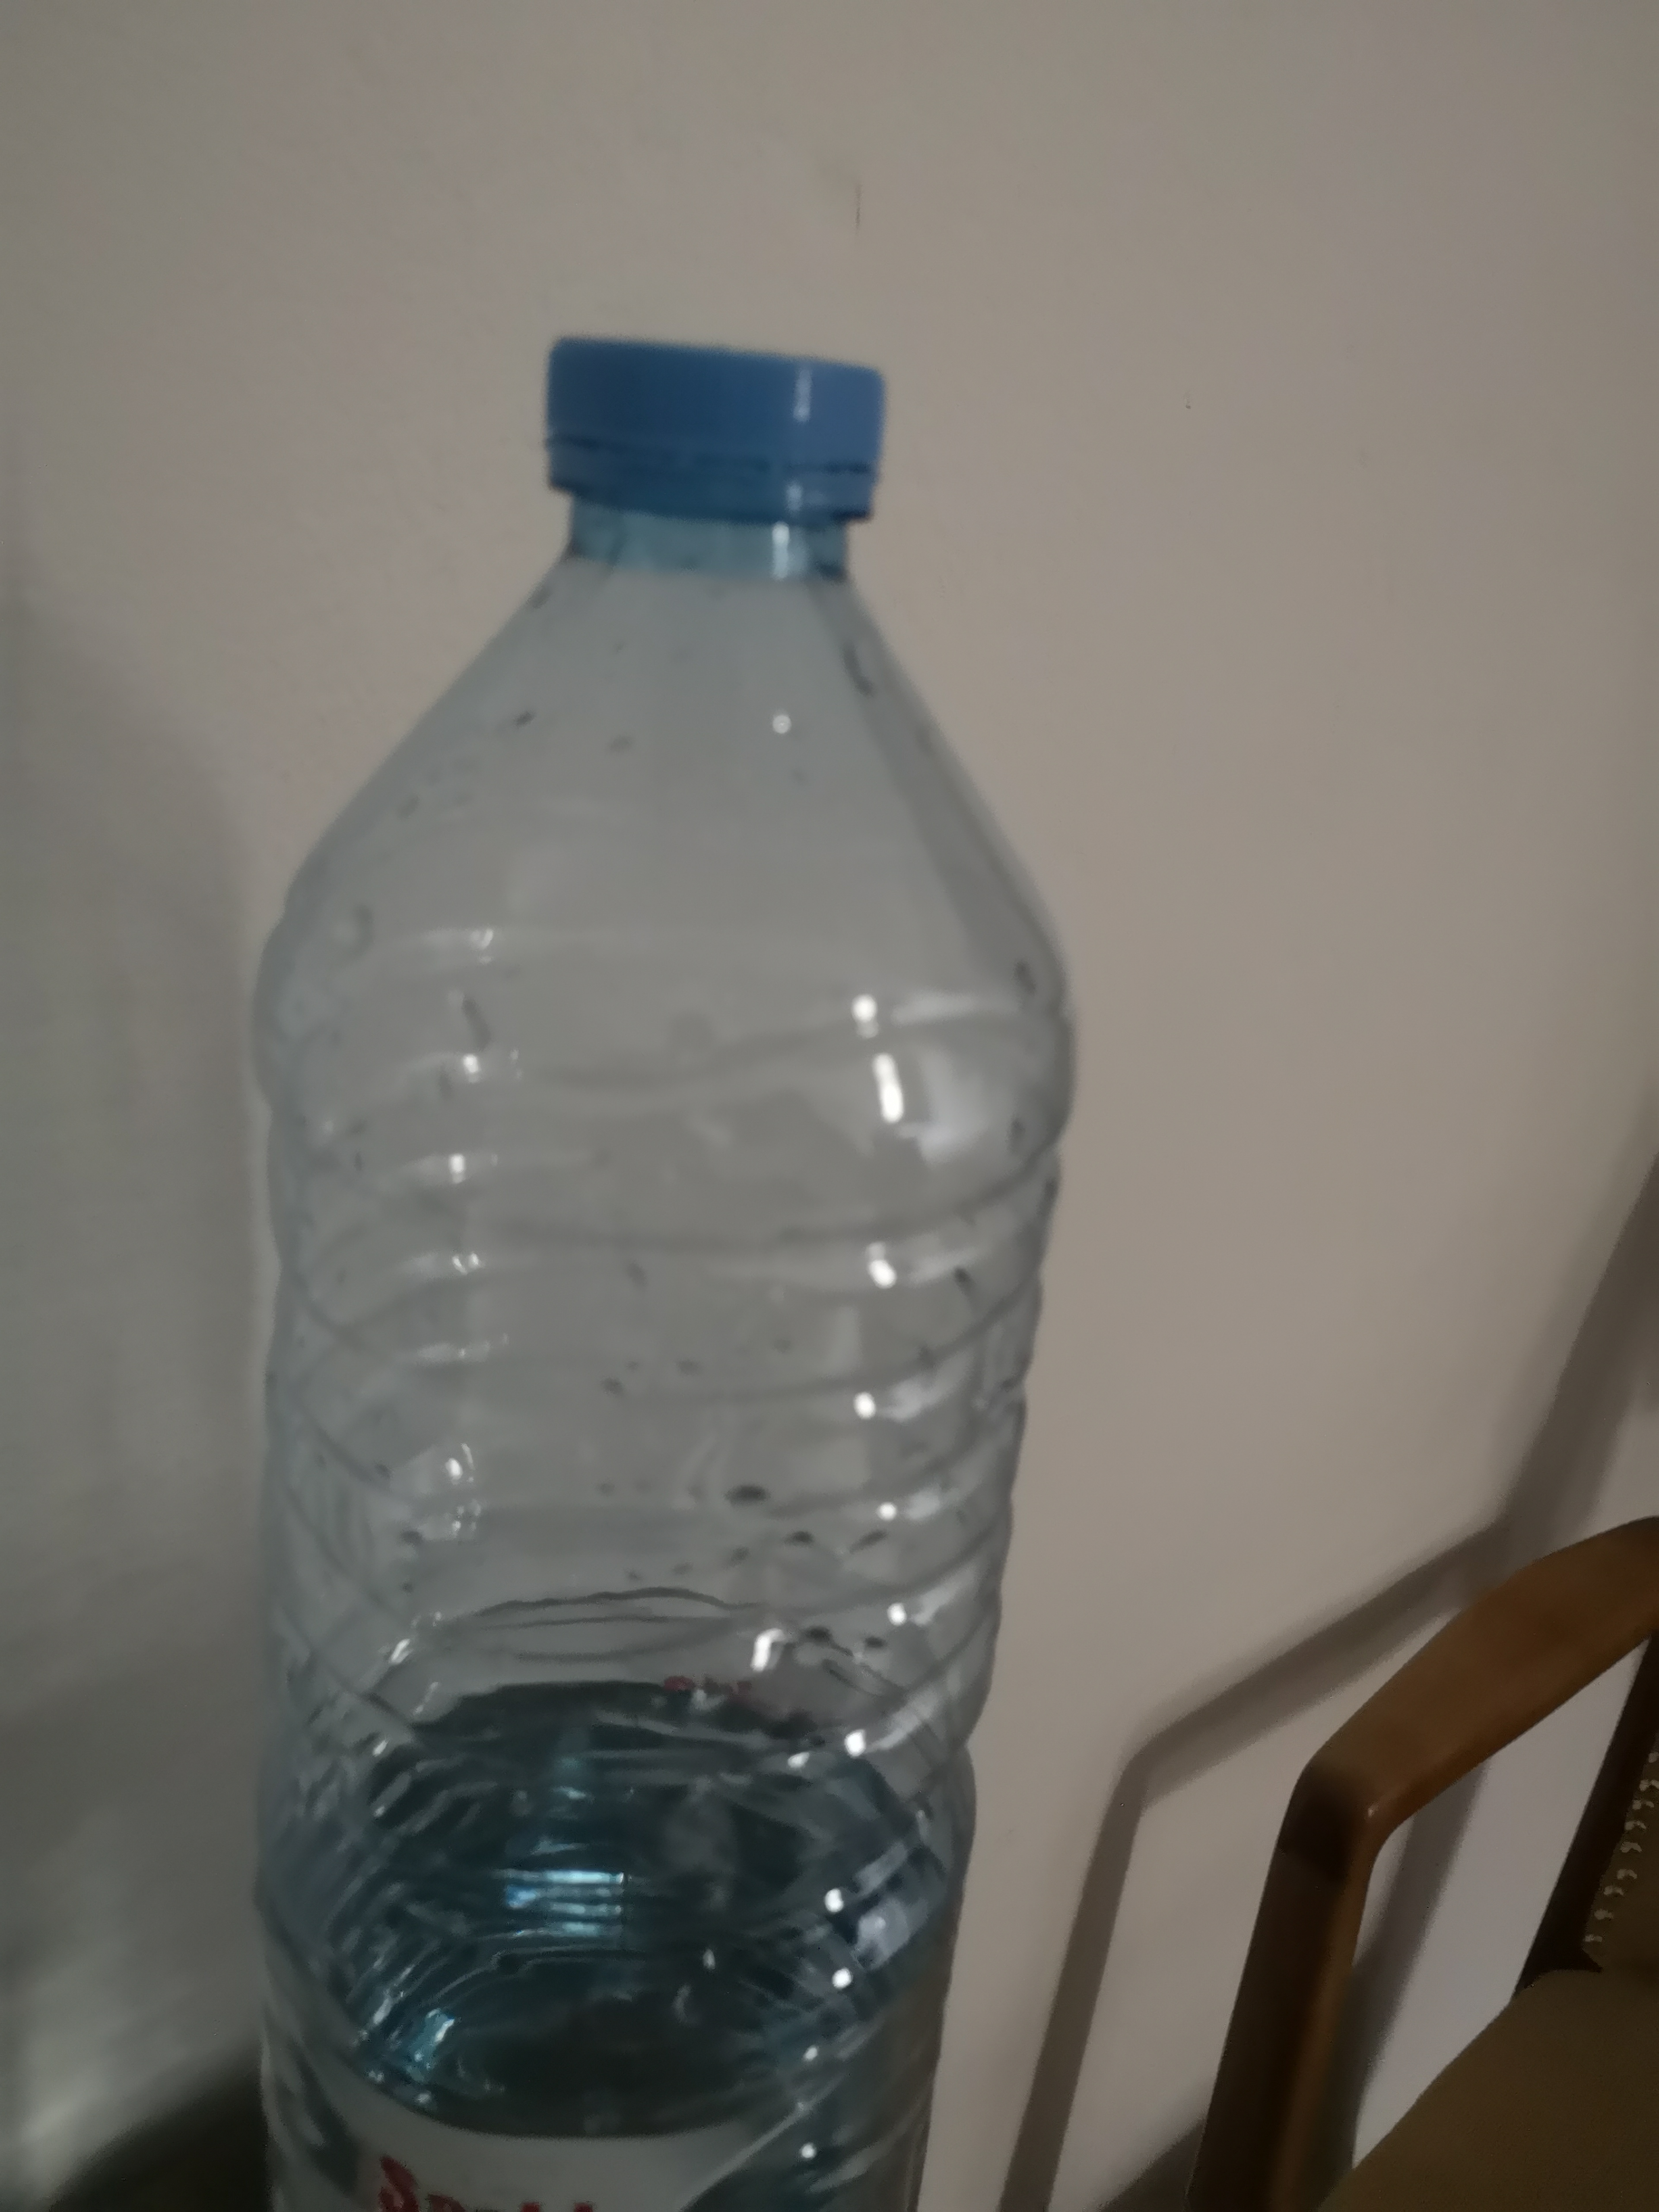plastic_bottle: (228, 293, 1122, 2212)
